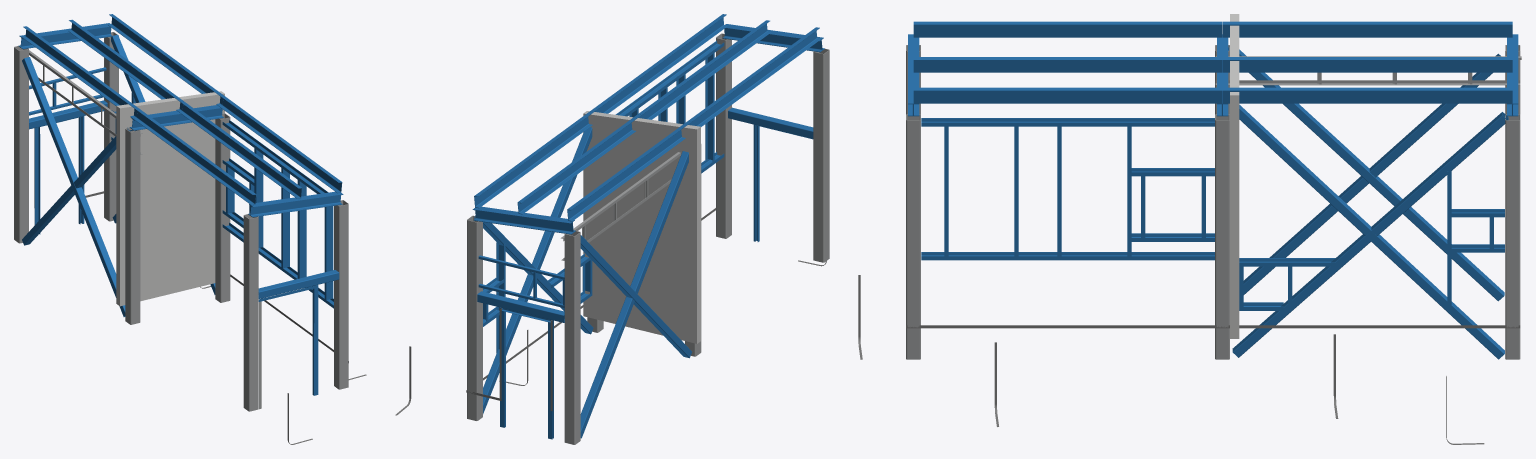
The model's file is Phase32.fbx.
The picture shows the model from 3 angles, left to right: view 1: azimuth 30°, elevation 25°; view 2: azimuth 150°, elevation 25°; view 3: azimuth 270°, elevation 25°; orthographic projection. The views are drawn at different scales.
Parts seen in each view (by area): view 1: Гнутый прямоугольный профиль (Трубы 30245-94)-Колонна:К8 200 (×6), ADSK_КаркасНесущий_Швеллер_ПолкаНаклонная_ГОСТ 8240-97:Балка (×12), Базовая стена:CPS_Наружная_Сэндвич-панель120:458954, Базовая стена:CPS_Наружная_Сэндвич-панель120:459492, Базовая стена:CPS_Наружная_Сэндвич-панель120:459500, ADSK_КаркасНесущий_Труба_ГОСТ 30245-2003:СВ4 120x120x5:78933, Базовая стена:CPS_Наружная_Сэндвич-панель120:459781, ADSK_КаркасНесущий_Двутавр_ГОСТ Р 57837-2017:Б1 20Ш1:789679, ADSK_КаркасНесущий_Труба_ГОСТ 30245-2003:СВ4 120x120x5:78932, ADSK_КаркасНесущий_Труба_ГОСТ 30245-2003:СВ1 140x140x6:84217, ADSK_КаркасНесущий_Двутавр_ГОСТ Р 57837-2017:Б1 20Ш1:789814, ADSK_КаркасНесущий_Двутавр_ГОСТ Р 57837-2017:Б1 20Ш1:790175 (+6 smaller); view 2: ADSK_КаркасНесущий_Швеллер_ПолкаНаклонная_ГОСТ 8240-97:Балка (×9), Гнутый прямоугольный профиль (Трубы 30245-94)-Колонна:К8 200 (×4), Базовая стена:CPS_Наружная_Сэндвич-панель120:459492, Базовая стена:CPS_Наружная_Сэндвич-панель120:458954, Базовая стена:CPS_Наружная_Сэндвич-панель120:459500, Базовая стена:CPS_Наружная_Сэндвич-панель120:459781, ADSK_КаркасНесущий_Труба_ГОСТ 30245-2003:СВ4 120x120x5:87941 (×2), ADSK_КаркасНесущий_Труба_ГОСТ 30245-2003:СВ4 120x120x5:78932, ADSK_КаркасНесущий_Труба_ГОСТ 30245-2003:СВ4 120x120x5:78933, ADSK_КаркасНесущий_Двутавр_ГОСТ Р 57837-2017:Б1 20Ш1:789814, ADSK_КаркасНесущий_Труба_ГОСТ 30245-2003:СВ1 140x140x6:83945, ADSK_КаркасНесущий_Труба_ГОСТ 30245-2003:СВ1 140x140x6:84217 (+5 smaller); view 3: ADSK_КаркасНесущий_Швеллер_ПолкаНаклонная_ГОСТ 8240-97:Балка (×16), Гнутый прямоугольный профиль (Трубы 30245-94)-Колонна:К8 200 (×3), ADSK_КаркасНесущий_Труба_ГОСТ 30245-2003:СВ4 120x120x5:87941 (×2), ADSK_КаркасНесущий_Труба_ГОСТ 30245-2003:СВ4 120x120x5:78932, ADSK_КаркасНесущий_Труба_ГОСТ 30245-2003:СВ4 120x120x5:78933, ADSK_КаркасНесущий_Уголок_ГОСТ 8509-93:Уголок L 50х50х5:6514, Сталь полосовая:Сталь полосовая оцинкованная 4х40:1239343, Сталь полосовая:Сталь полосовая оцинкованная 4х40:1246067, Базовая стена:CPS_Наружная_Сэндвич-панель120:459781, ADSK_КаркасНесущий_Двутавр_ГОСТ Р 57837-2017:Б1 20Ш1:789814, ADSK_КаркасНесущий_Двутавр_ГОСТ Р 57837-2017:Б1 20Ш1:789679, Базовая стена:CPS_Наружная_Сэндвич-панель120:459492 (+2 smaller).
Boxes of the visible parts, <box> form: Гнутый прямоугольный профиль (Трубы 30245-94)-Колонна:К8 200 (×6): <box>14,32,348,411</box>; ADSK_КаркасНесущий_Швеллер_ПолкаНаклонная_ГОСТ 8240-97:Балка (×12): <box>22,14,342,308</box>; Базовая стена:CPS_Наружная_Сэндвич-панель120:458954: <box>116,231,215,306</box>; Базовая стена:CPS_Наружная_Сэндвич-панель120:459492: <box>116,178,215,253</box>; Базовая стена:CPS_Наружная_Сэндвич-панель120:459500: <box>116,129,215,201</box>; ADSK_КаркасНесущий_Труба_ГОСТ 30245-2003:СВ4 120x120x5:78933: <box>22,57,125,316</box>; Базовая стена:CPS_Наружная_Сэндвич-панель120:459781: <box>116,91,224,148</box>; ADSK_КаркасНесущий_Двутавр_ГОСТ Р 57837-2017:Б1 20Ш1:789679: <box>248,191,343,217</box>; ADSK_КаркасНесущий_Труба_ГОСТ 30245-2003:СВ4 120x120x5:78932: <box>22,127,133,245</box>; ADSK_КаркасНесущий_Труба_ГОСТ 30245-2003:СВ1 140x140x6:84217: <box>258,270,339,298</box>; ADSK_КаркасНесущий_Двутавр_ГОСТ Р 57837-2017:Б1 20Ш1:789814: <box>18,23,112,49</box>; ADSK_КаркасНесущий_Двутавр_ГОСТ Р 57837-2017:Б1 20Ш1:790175: <box>129,105,223,130</box>; ADSK_КаркасНесущий_Швеллер_ПолкаНаклонная_ГОСТ 8240-97:Балка (×9): <box>474,14,820,353</box>; Гнутый прямоугольный профиль (Трубы 30245-94)-Колонна:К8 200 (×4): <box>467,33,829,444</box>; Базовая стена:CPS_Наружная_Сэндвич-панель120:459492: <box>583,205,700,286</box>; Базовая стена:CPS_Наружная_Сэндвич-панель120:458954: <box>583,261,700,343</box>; Базовая стена:CPS_Наружная_Сэндвич-панель120:459500: <box>583,147,700,230</box>; Базовая стена:CPS_Наружная_Сэндвич-панель120:459781: <box>583,111,700,173</box>; ADSK_КаркасНесущий_Труба_ГОСТ 30245-2003:СВ4 120x120x5:87941 (×2): <box>474,127,593,413</box>; ADSK_КаркасНесущий_Труба_ГОСТ 30245-2003:СВ4 120x120x5:78932: <box>580,151,688,438</box>; ADSK_КаркасНесущий_Труба_ГОСТ 30245-2003:СВ4 120x120x5:78933: <box>580,235,691,358</box>; ADSK_КаркасНесущий_Двутавр_ГОСТ Р 57837-2017:Б1 20Ш1:789814: <box>472,206,575,234</box>; ADSK_КаркасНесущий_Труба_ГОСТ 30245-2003:СВ1 140x140x6:83945: <box>477,291,564,322</box>; ADSK_КаркасНесущий_Труба_ГОСТ 30245-2003:СВ1 140x140x6:84217: <box>728,107,813,138</box>; ADSK_КаркасНесущий_Швеллер_ПолкаНаклонная_ГОСТ 8240-97:Балка (×16): <box>913,21,1512,304</box>; Гнутый прямоугольный профиль (Трубы 30245-94)-Колонна:К8 200 (×3): <box>906,114,1520,359</box>; ADSK_КаркасНесущий_Труба_ГОСТ 30245-2003:СВ4 120x120x5:87941 (×2): <box>1232,104,1508,359</box>; ADSK_КаркасНесущий_Труба_ГОСТ 30245-2003:СВ4 120x120x5:78932: <box>1228,47,1504,301</box>; ADSK_КаркасНесущий_Труба_ГОСТ 30245-2003:СВ4 120x120x5:78933: <box>1243,53,1500,294</box>; ADSK_КаркасНесущий_Уголок_ГОСТ 8509-93:Уголок L 50х50х5:6514: <box>1215,80,1520,85</box>; Сталь полосовая:Сталь полосовая оцинкованная 4х40:1239343: <box>906,325,1229,328</box>; Сталь полосовая:Сталь полосовая оцинкованная 4х40:1246067: <box>1239,325,1520,328</box>; Базовая стена:CPS_Наружная_Сэндвич-панель120:459781: <box>1230,14,1239,134</box>; ADSK_КаркасНесущий_Двутавр_ГОСТ Р 57837-2017:Б1 20Ш1:789814: <box>1507,34,1518,116</box>; ADSK_КаркасНесущий_Двутавр_ГОСТ Р 57837-2017:Б1 20Ш1:789679: <box>908,34,919,116</box>; Базовая стена:CPS_Наружная_Сэндвич-панель120:459492: <box>1230,202,1239,270</box>.
Size of the model in its own units: 3715 by 8801 by 4580.
